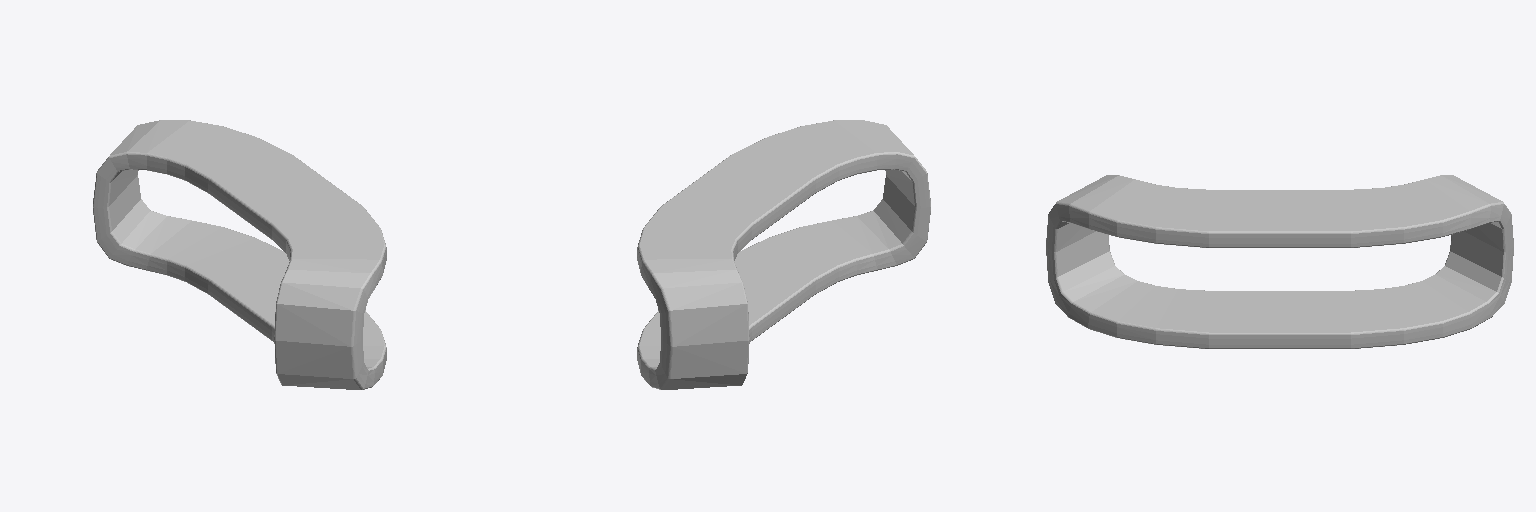
Rendered from CP3_TableMesh2.obj.
3 views of the same model, side by side, from view 1: azimuth 30°, elevation 25°; view 2: azimuth 150°, elevation 25°; view 3: azimuth 270°, elevation 25° (orthographic).
Size of the model in its own units: 141 by 110 by 396.